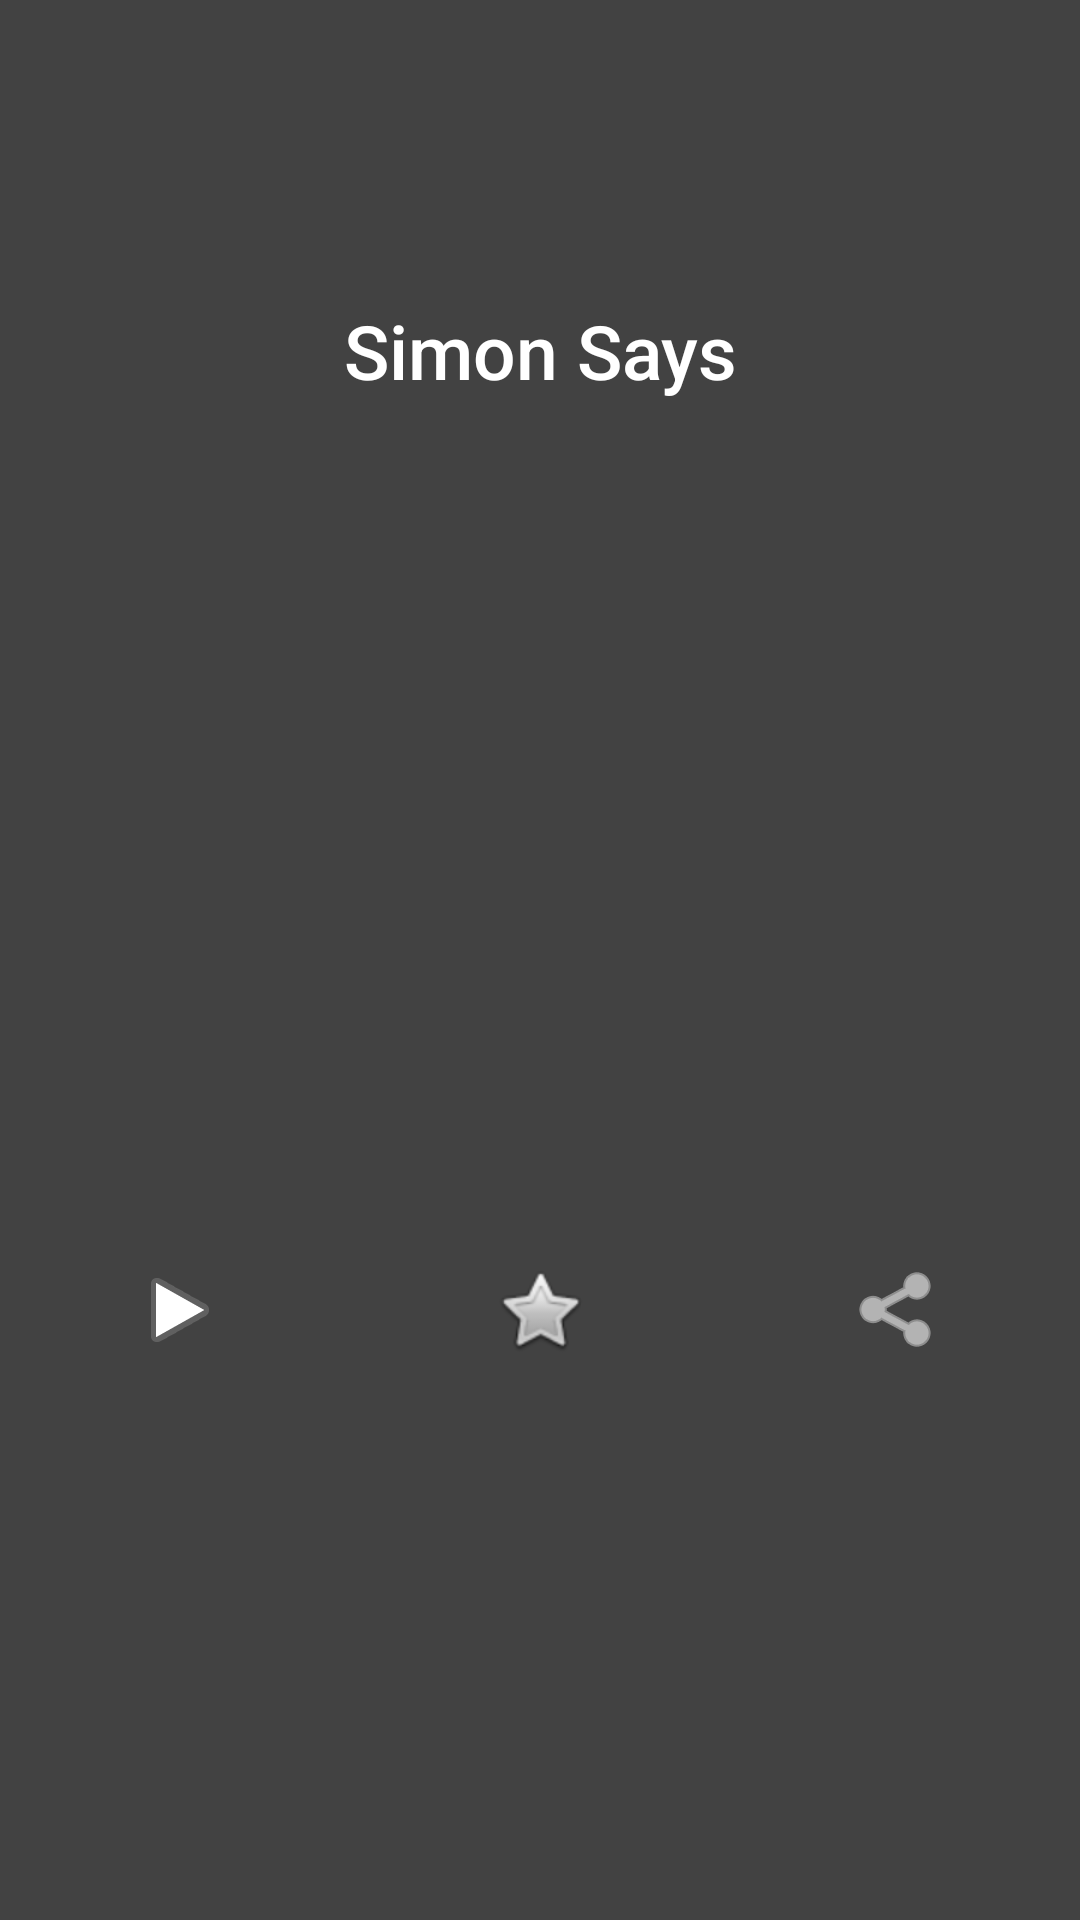

Icons on this 1080px x 1920px Android screen, each with its box as (x1, y1, x2, y2):
Jouer: (151, 1278, 209, 1342)
Partager: (859, 1272, 931, 1347)
Score : (503, 1273, 579, 1346)
